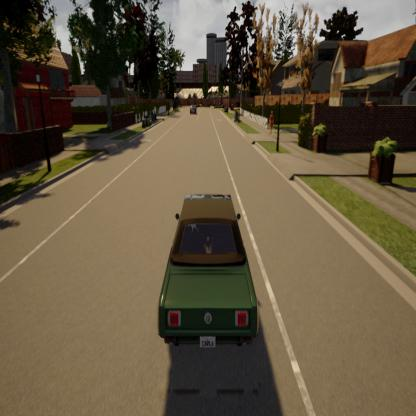Cars: (155, 181, 264, 356), (189, 102, 197, 116)
Pedestrian: (265, 108, 276, 140)
